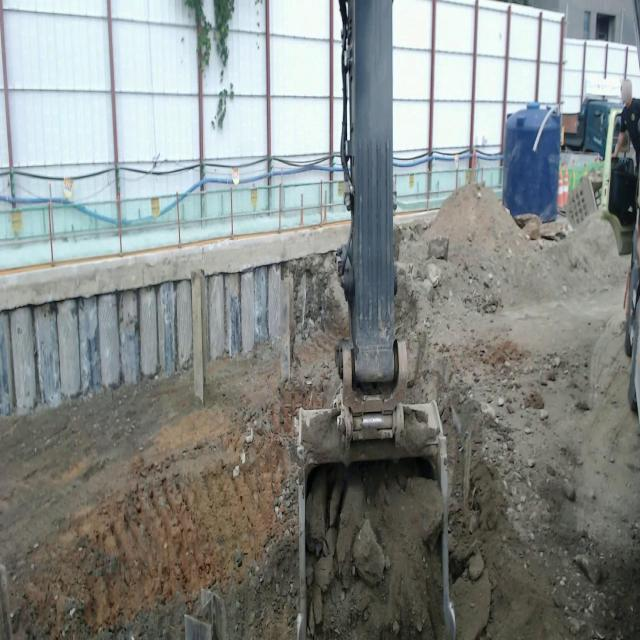white-sand: (0, 251, 349, 639), (394, 185, 640, 639), (303, 459, 449, 639)
